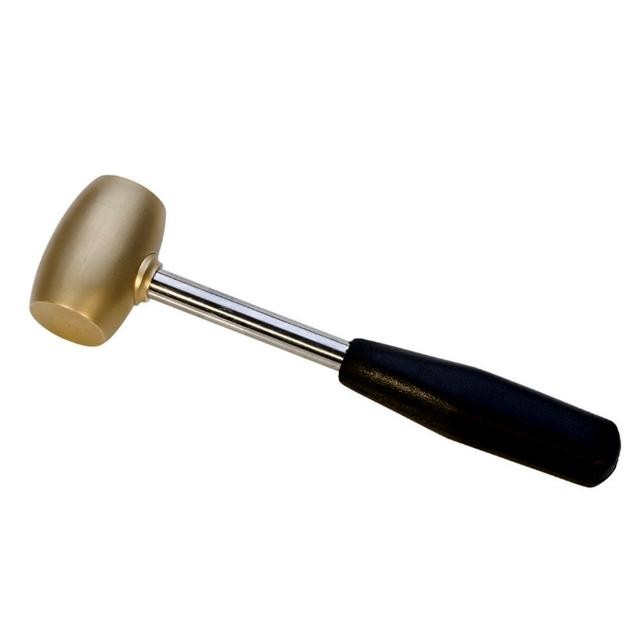hammer: (22, 164, 628, 496)
